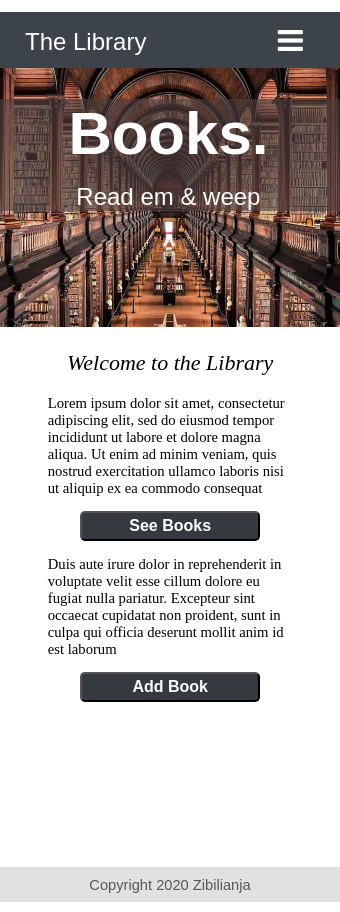
Test: 11_mobile_dropdown_open_close › click_drop_down_open
The image size is (340, 912).
Click the button with class "click__dropdown" at (292,34), box [277,12,307,56]
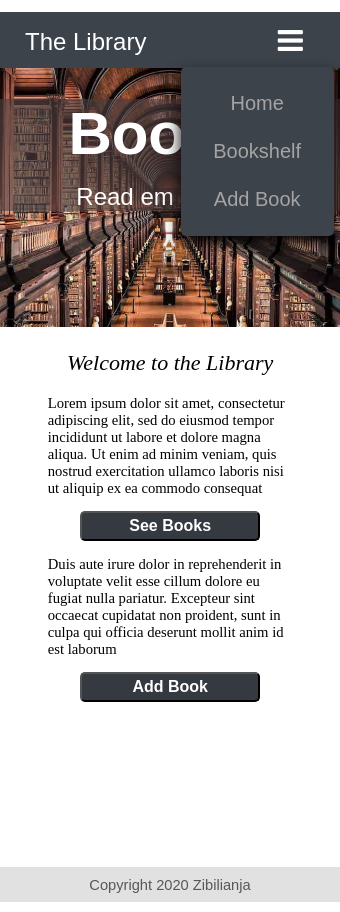
Check: the element with class "dropdown__content" is shown, box [181,67,334,236]
